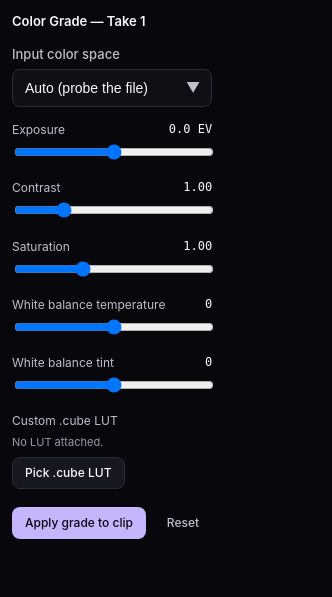
Test: ColorInspector: per-clip color grade tab › picks a .cube LUT through the native dialog and attaches path + sha256
This screenshot has width=332, height=597.
Click the button "Pick .cube LUT" at x=68, y=473, box [12,457,124,489]
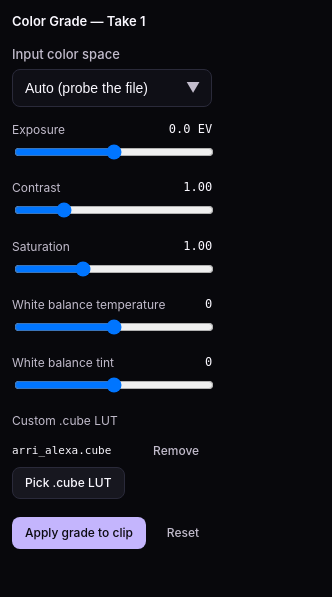
Expected: the text "arri_alexa.cube" is shown, [12,444,111,457]
Click the button "Apply grade to clip" at x=79, y=533, box [12,517,146,549]
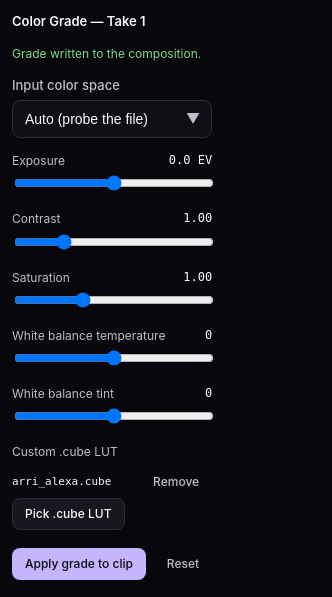
# Remove clears the LUT.
Click the button "Remove" at x=176, y=482, box [140,466,212,498]
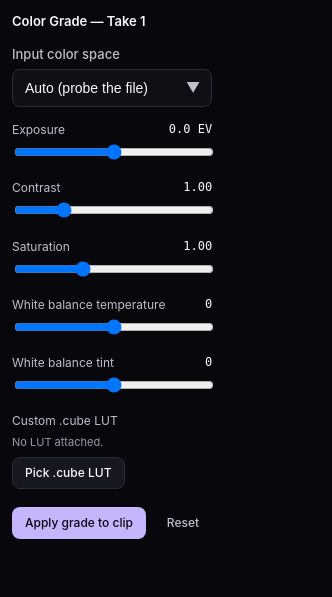
Expected: the text "arri_alexa.cube" is gone
